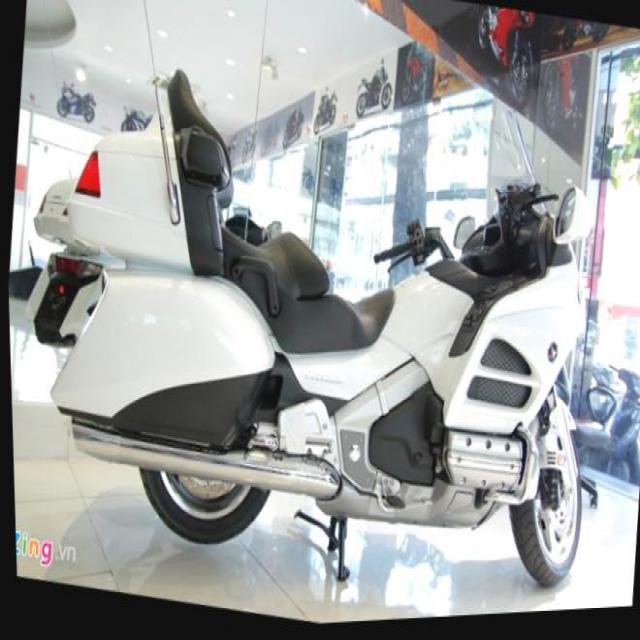Gold Wing: (2, 12, 626, 637)
